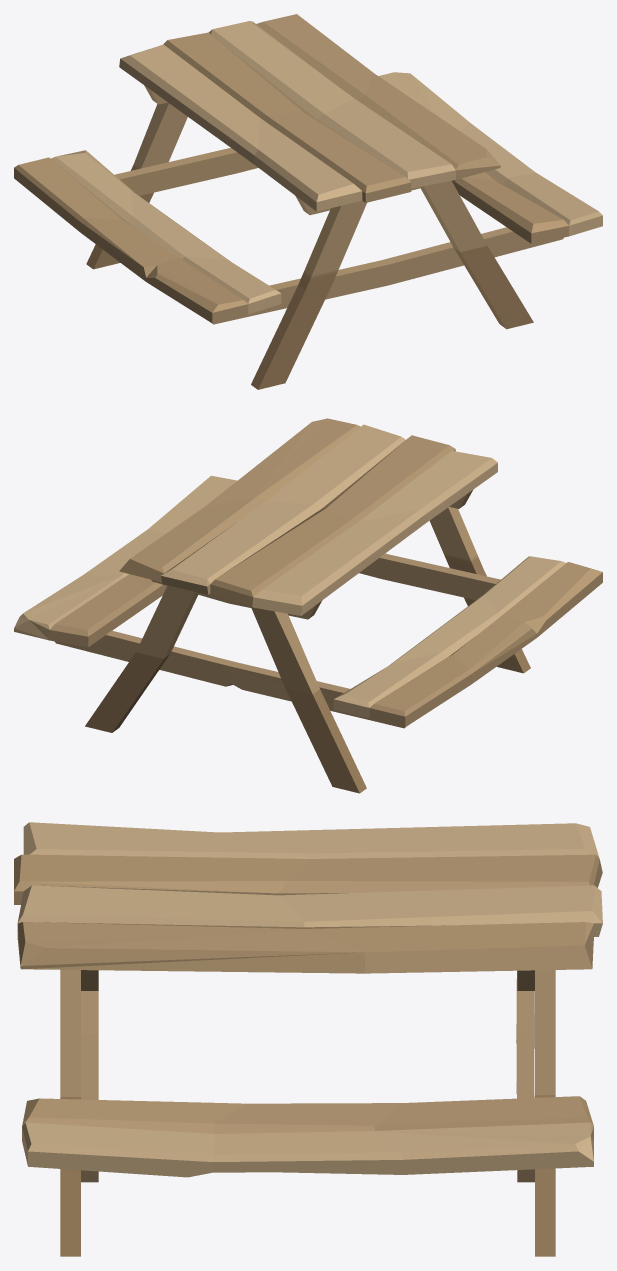
The model's file is SM_Prop_Table_Outdoor_01.fbx.
3 renders of one model, top to bottom at view 1: azimuth 30°, elevation 25°; view 2: azimuth 150°, elevation 25°; view 3: azimuth 270°, elevation 25°, orthographic. The views are drawn at different scales.
Parts seen in each view (by area): view 1: SM_Prop_Table_Outdoor_01; view 2: SM_Prop_Table_Outdoor_01; view 3: SM_Prop_Table_Outdoor_01.
Boxes of the visible parts, left/top/right/bottom form: SM_Prop_Table_Outdoor_01: left=14, top=14, right=602, bottom=389; SM_Prop_Table_Outdoor_01: left=14, top=418, right=602, bottom=793; SM_Prop_Table_Outdoor_01: left=14, top=822, right=602, bottom=1256.
Bounding box in the file's own units: 215 × 99.74 × 193.
